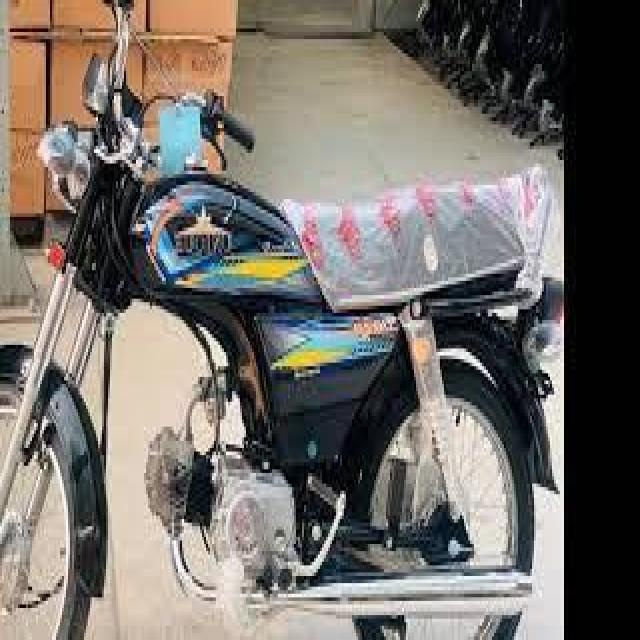motorcycle: (0, 7, 562, 629)
